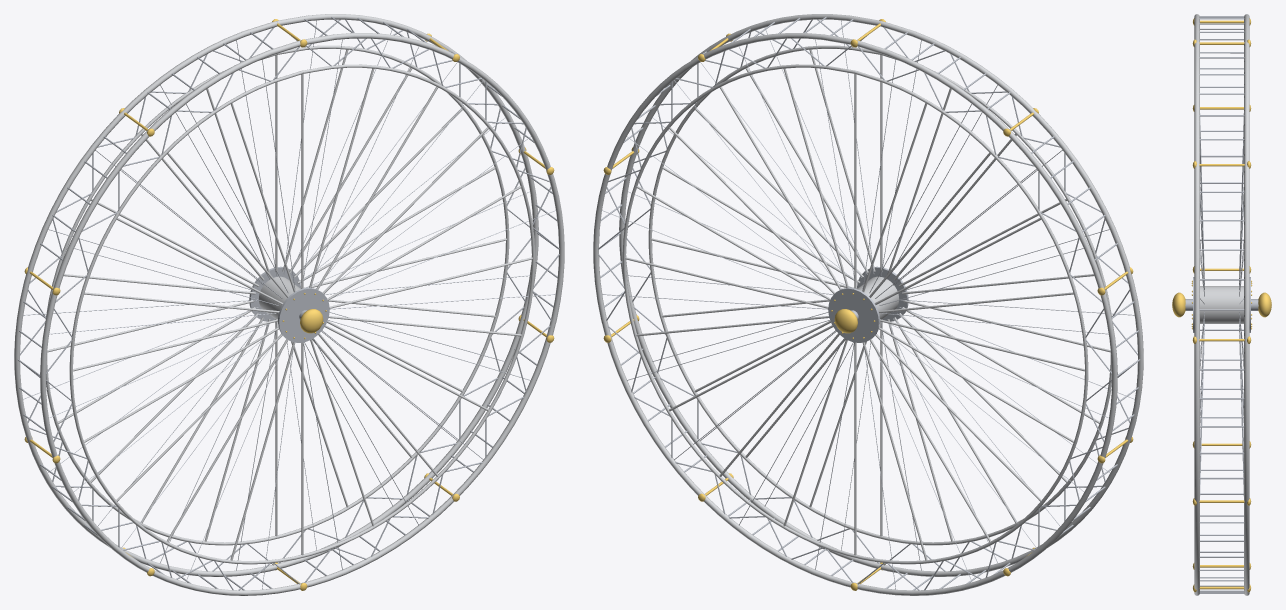
The model's file is wheel_rotor.glb.
3 views of the same model, side by side, from view 1: azimuth 30°, elevation 25°; view 2: azimuth 150°, elevation 25°; view 3: azimuth 270°, elevation 25° (orthographic). The views are drawn at different scales.
Visible parts, largest first — view 1: wheel_rotor; view 2: wheel_rotor; view 3: wheel_rotor.
Part boxes in pixels (x1,y1,x2,y2): wheel_rotor: (14,14,564,595); wheel_rotor: (593,14,1143,595); wheel_rotor: (1172,14,1271,595).
Bounding box in the file's own units: 44.4 × 44.64 × 7.61.
